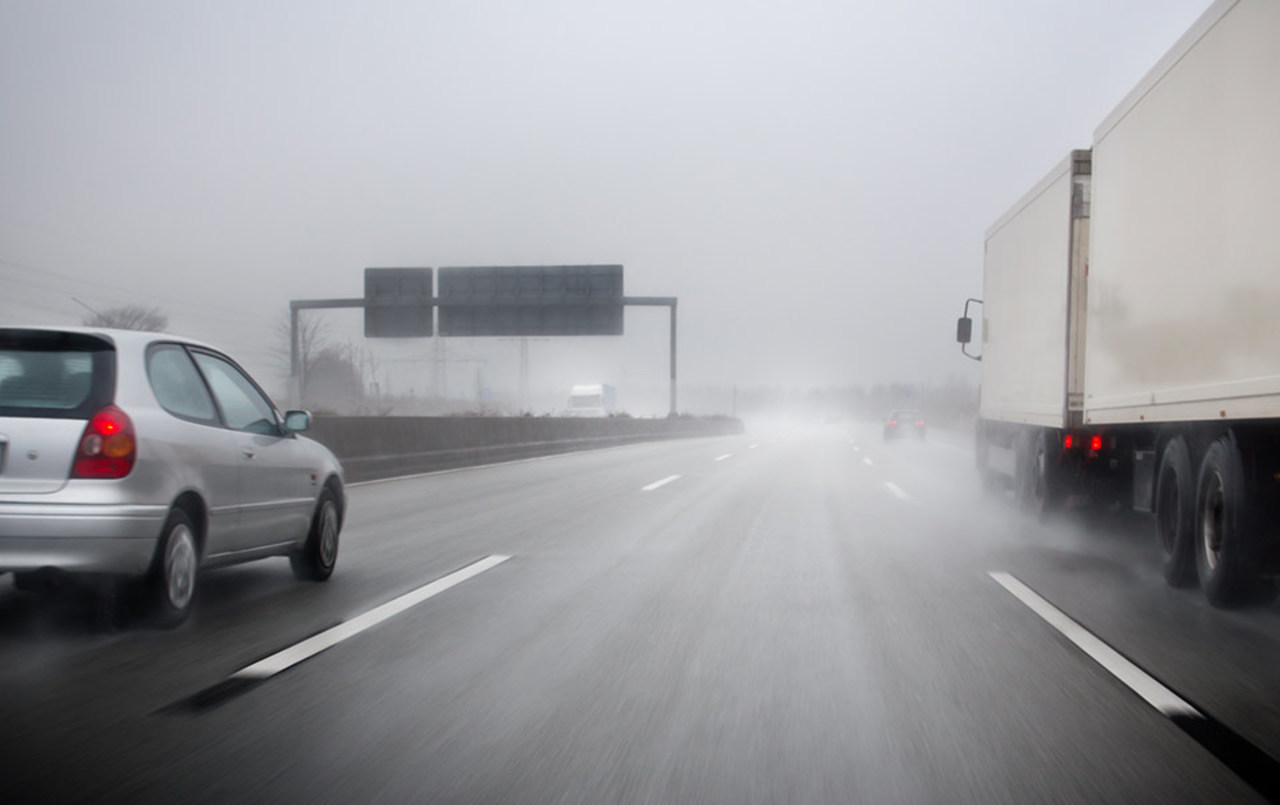car: (5, 328, 349, 623), (883, 405, 926, 440)
truck: (972, 49, 1276, 602), (565, 380, 618, 419)
